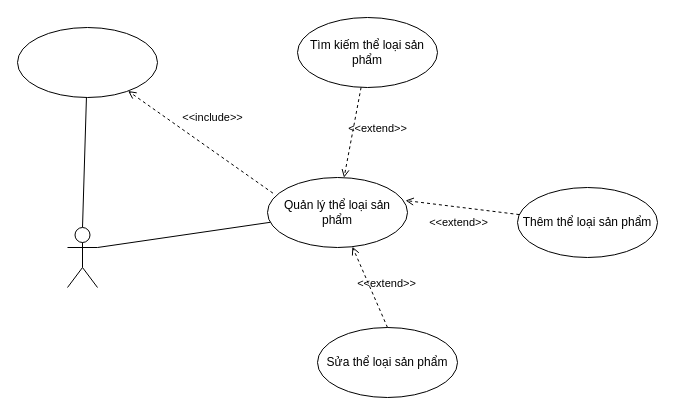
This 675x415 diagram has some shape labels left out. The centre of each missing label's shape, as x and y in pixels:
"Nhân viên QL" goes at point (82, 257).
"Đăng nhập" goes at point (87, 62).
